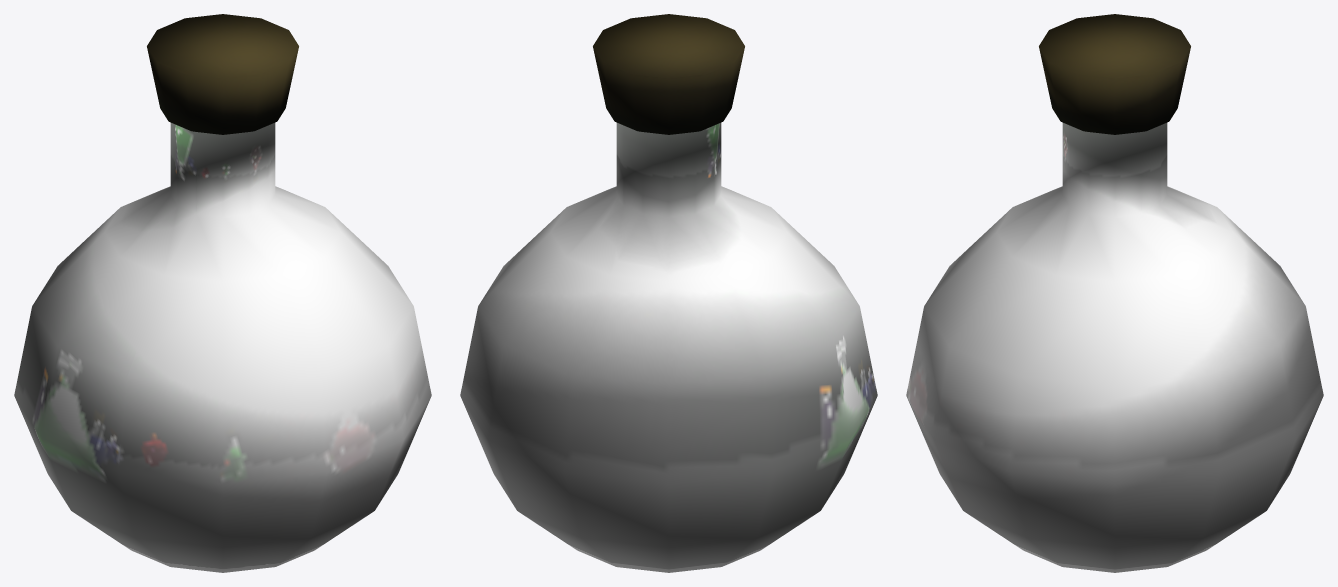
File: Potions5.fbx
3 views of the same model, side by side, from view 1: azimuth 30°, elevation 25°; view 2: azimuth 150°, elevation 25°; view 3: azimuth 270°, elevation 25° (orthographic).
Parts seen in each view (by area): view 1: Cylinder.001; view 2: Cylinder.001; view 3: Cylinder.001.
Part boxes in pixels (x1,y1,x2,y2): Cylinder.001: (14,14,431,572); Cylinder.001: (460,14,877,572); Cylinder.001: (906,14,1323,572).
Size of the model in its own units: 48.77 by 62.34 by 48.77.
